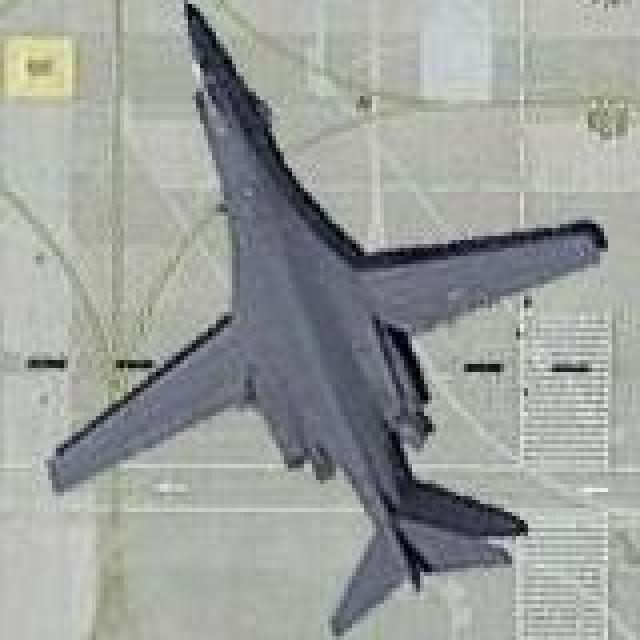B-1_TopDown: (40, 0, 608, 632)
